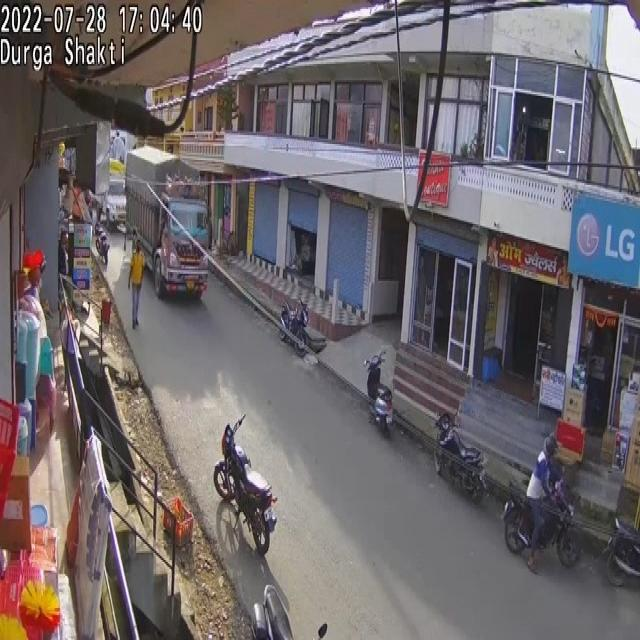non-fight: (525, 434, 566, 567), (128, 236, 146, 329)
